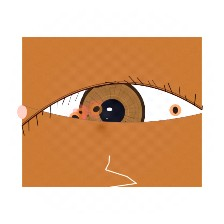foreign_body_visible: (71, 105, 90, 120)
